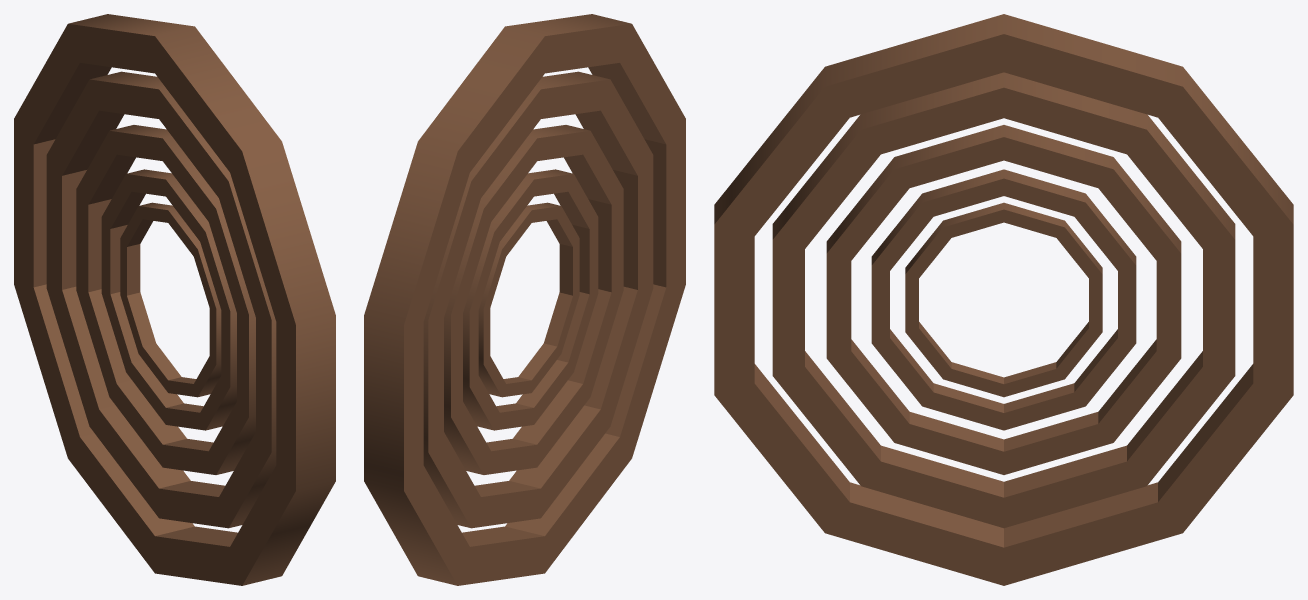
File: whip.fbx
3 renders of one model, left to right at view 1: azimuth 30°, elevation 25°; view 2: azimuth 150°, elevation 25°; view 3: azimuth 270°, elevation 25°, orthographic. The views are drawn at different scales.
Parts seen in each view (by area): view 1: whip; view 2: whip; view 3: whip.
Boxes of the visible parts, x1,y1,x2,y2 form: whip: (14,14,335,585); whip: (364,14,685,585); whip: (714,14,1293,585).
Bounding box in the file's own units: 3.31 × 42.58 × 40.49.
